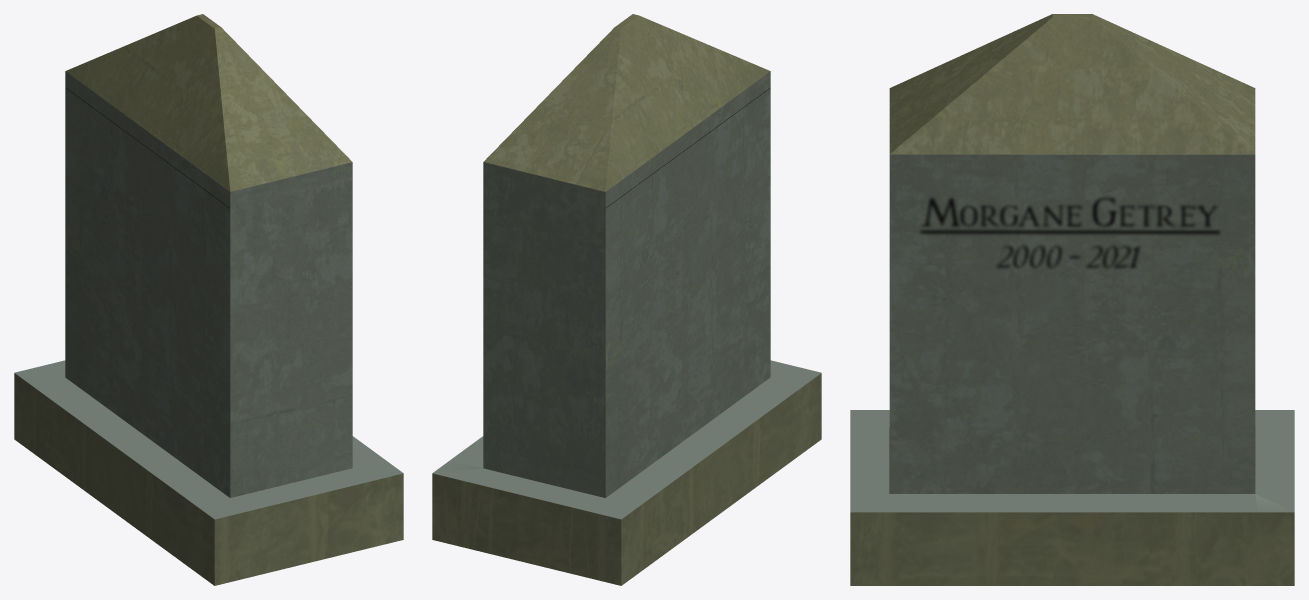
File: MorganeGrave.fbx
The picture shows the model from 3 angles, left to right: view 1: azimuth 30°, elevation 25°; view 2: azimuth 150°, elevation 25°; view 3: azimuth 270°, elevation 25°; orthographic projection. The views are drawn at different scales.
Parts seen in each view (by area): view 1: Box001; view 2: Box001; view 3: Box001.
Part boxes in pixels (x1=…): Box001: x1=14, y1=14, x2=403, y2=585; Box001: x1=432, y1=14, x2=821, y2=585; Box001: x1=850, y1=14, x2=1294, y2=585.
Bounding box in the file's own units: 36.15 × 85.47 × 66.32.
Materials: 1 (1 with a texture image).
